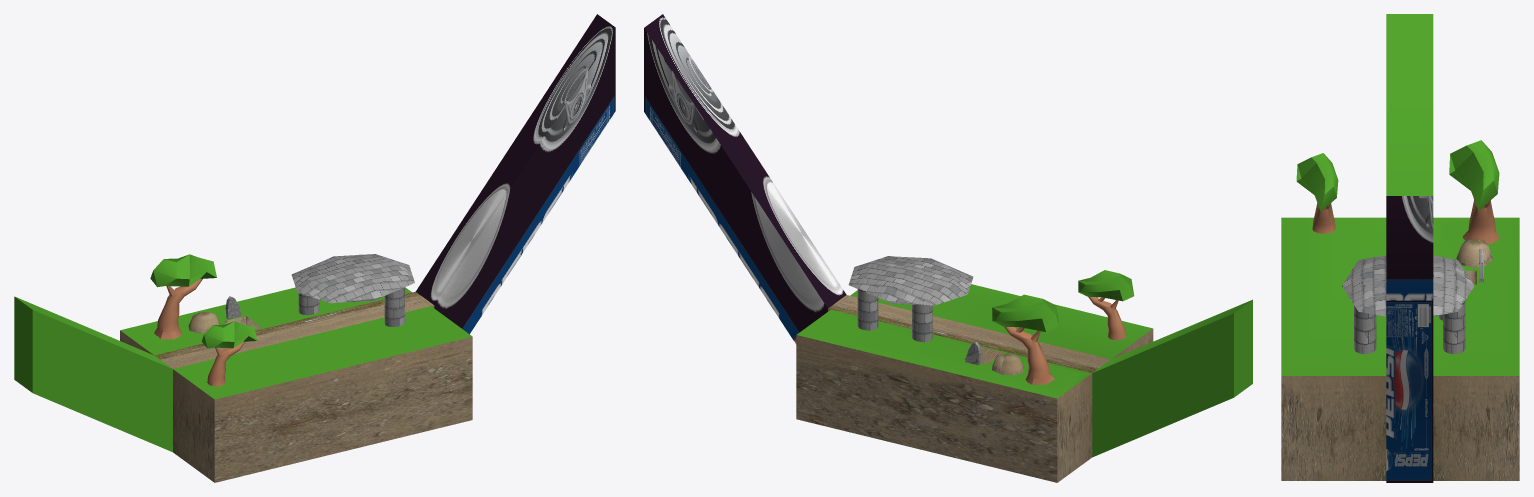
Rendered from brandnewscene.fbx.
3 views of the same model, side by side, from view 1: azimuth 30°, elevation 25°; view 2: azimuth 150°, elevation 25°; view 3: azimuth 270°, elevation 25° (orthographic). The views are drawn at different scales.
Parts seen in each view (by area): view 1: Mesh, Mesh (9), Mesh (2), Mesh (3), Mesh (2) (2), Mesh (6), Mesh (4); view 2: Mesh, Mesh (9), Mesh (2), Mesh (2) (2), Mesh (3), Mesh (5), Mesh (7), Mesh (4); view 3: Mesh, Mesh (9), Mesh (2), Mesh (2) (2), Mesh (5), Mesh (3), Mesh (6), Mesh (11), Mesh (4).
Boxes of the visible parts, x1,y1,x2,y2 form: Mesh: [14, 14, 615, 482]; Mesh (9): [291, 254, 414, 303]; Mesh (2): [150, 254, 216, 287]; Mesh (3): [154, 279, 202, 339]; Mesh (2) (2): [201, 321, 257, 348]; Mesh (6): [384, 286, 404, 326]; Mesh (4): [207, 341, 245, 386]; Mesh: [644, 14, 1252, 482]; Mesh (9): [848, 256, 973, 305]; Mesh (2): [992, 294, 1059, 331]; Mesh (2) (2): [1078, 270, 1134, 301]; Mesh (3): [1004, 327, 1054, 384]; Mesh (5): [857, 287, 878, 330]; Mesh (7): [912, 304, 932, 342]; Mesh (4): [1088, 297, 1126, 340]; Mesh: [1281, 14, 1519, 482]; Mesh (9): [1342, 255, 1474, 316]; Mesh (2): [1449, 140, 1499, 210]; Mesh (2) (2): [1296, 153, 1338, 211]; Mesh (5): [1443, 298, 1465, 354]; Mesh (3): [1462, 199, 1499, 244]; Mesh (6): [1354, 301, 1376, 354]; Mesh (11): [1456, 238, 1492, 267]; Mesh (4): [1312, 203, 1335, 233].
Bounding box in the file's own units: 18997 × 9862 × 5347.
Materials: 8 (8 with a texture image).
